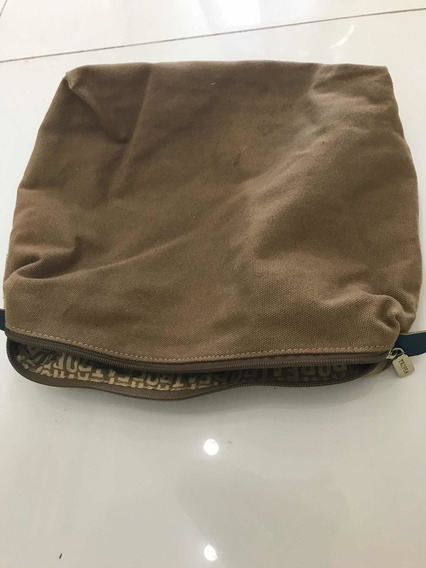cartera: (4, 60, 426, 403)
